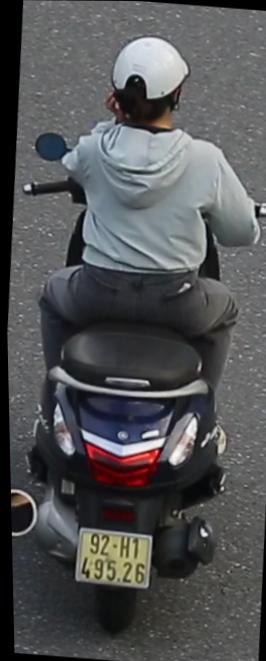LP: (61, 519, 157, 599)
helmet: (99, 26, 194, 129)
